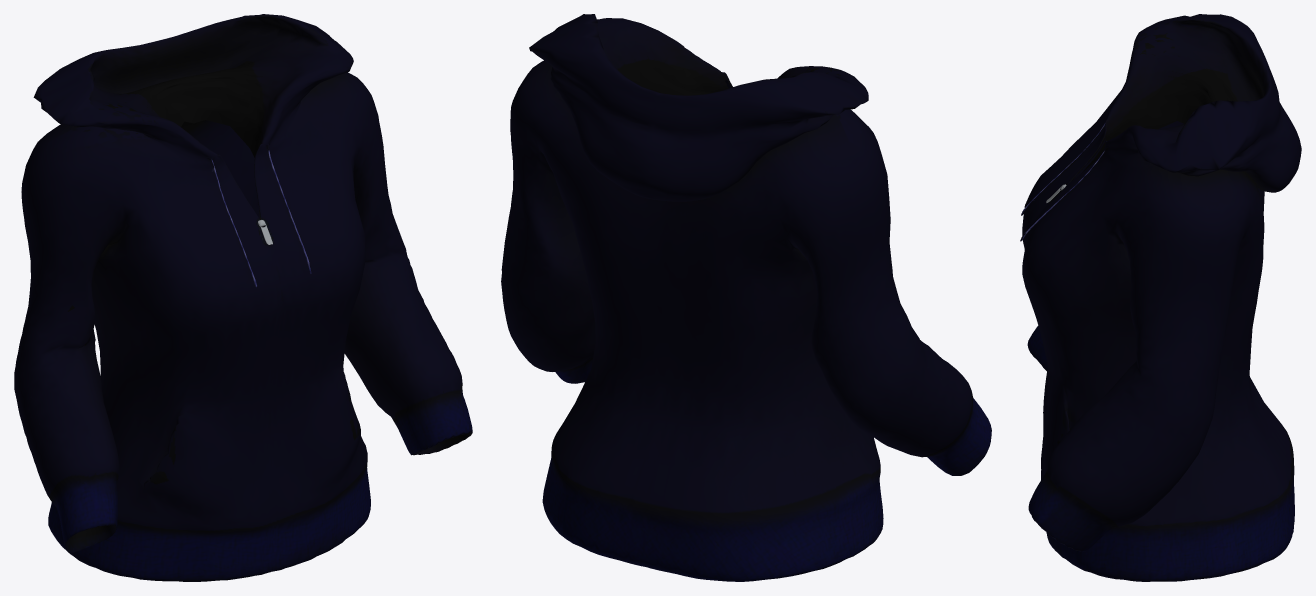
3 renders of one model, left to right at view 1: azimuth 30°, elevation 25°; view 2: azimuth 150°, elevation 25°; view 3: azimuth 270°, elevation 25°, orthographic. The views are drawn at different scales.
Parts seen in each view (by area): view 1: fabric; view 2: fabric; view 3: fabric.
Boxes of the visible parts, bbox=[...] form: fabric: bbox=[14, 14, 472, 581]; fabric: bbox=[501, 14, 991, 581]; fabric: bbox=[1020, 14, 1301, 581].
Size of the model in its own units: 0.5704 by 0.6252 by 0.3434.
2 materials, 1 textured.
